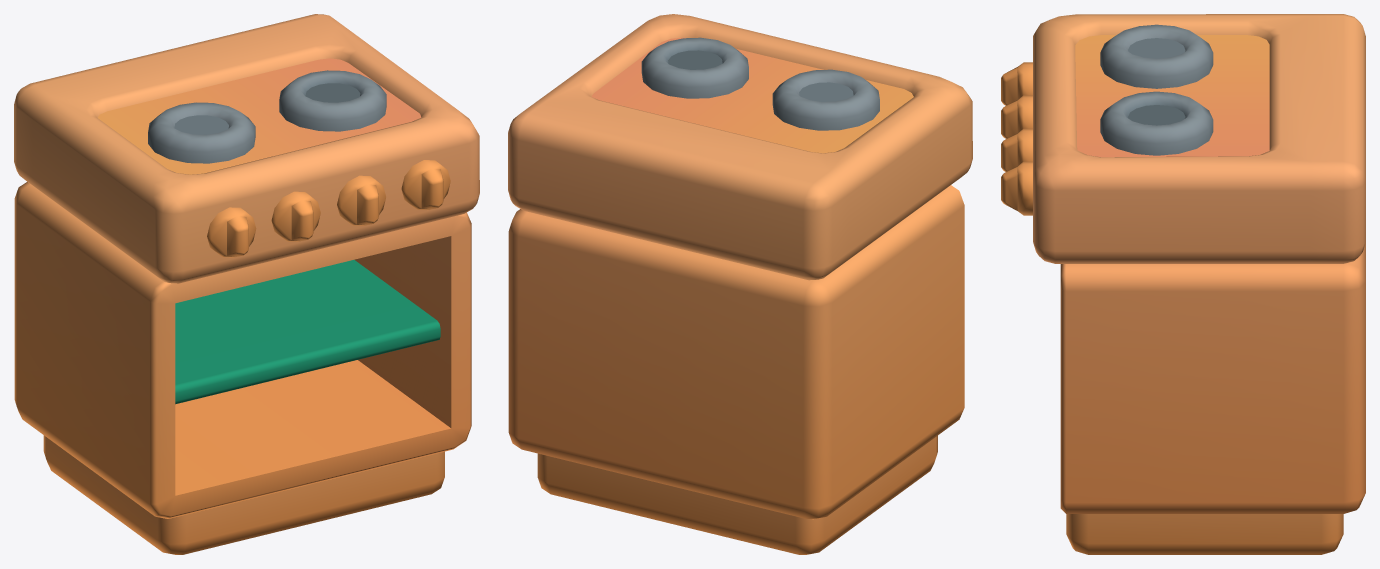
File: Kitchen_stove_001.fbx
3 renders of one model, left to right at view 1: azimuth 30°, elevation 25°; view 2: azimuth 150°, elevation 25°; view 3: azimuth 270°, elevation 25°, orthographic. The views are drawn at different scales.
Visible parts, largest first — view 1: Kitchen_stove_001; view 2: Kitchen_stove_001; view 3: Kitchen_stove_001.
Boxes of the visible parts, x1,y1,x2,y2 form: Kitchen_stove_001: [14, 14, 479, 554]; Kitchen_stove_001: [508, 14, 972, 554]; Kitchen_stove_001: [1001, 14, 1365, 554].
Size of the model in its own units: 74.4 by 69.87 by 87.36.
